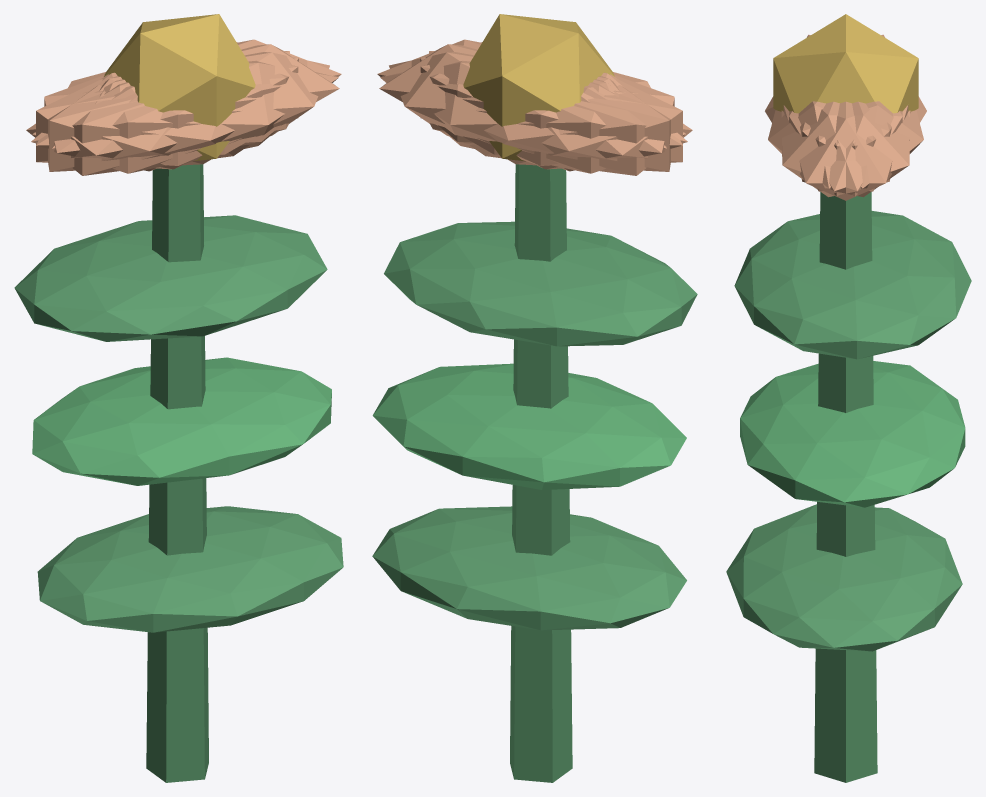
Rendered from capsicum-chinense.glb.
3 views of the same model, side by side, from view 1: azimuth 30°, elevation 25°; view 2: azimuth 150°, elevation 25°; view 3: azimuth 270°, elevation 25° (orthographic).
Parts seen in each view (by area): view 1: leaf2, leaf0, leaf1, stem, center, petal1, petal6, petal2, petal5, petal7, petal0, petal4 (+2 smaller); view 2: leaf2, leaf1, leaf0, stem, center, petal8, petal3, petal7, petal4, petal2, petal0, petal5 (+2 smaller); view 3: leaf2, leaf0, leaf1, stem, center, petal0, petal5, petal4, petal8, petal1.
Boxes of the visible parts, x1=… form: leaf2: x1=14, y1=215, x2=327, y2=341; leaf0: x1=37, y1=506, x2=343, y2=632; leaf1: x1=32, y1=357, x2=331, y2=485; stem: x1=146, y1=164, x2=208, y2=782; center: x1=104, y1=14, x2=255, y2=161; petal1: x1=31, y1=60, x2=338, y2=173; petal6: x1=26, y1=74, x2=248, y2=175; petal2: x1=48, y1=51, x2=289, y2=171; petal5: x1=52, y1=52, x2=329, y2=165; petal7: x1=36, y1=57, x2=298, y2=169; petal0: x1=103, y1=44, x2=339, y2=155; petal4: x1=32, y1=39, x2=341, y2=145; leaf2: x1=384, y1=221, x2=697, y2=346; leaf1: x1=372, y1=363, x2=686, y2=489; leaf0: x1=372, y1=506, x2=686, y2=630; stem: x1=510, y1=164, x2=572, y2=782; center: x1=463, y1=14, x2=614, y2=161; petal8: x1=380, y1=60, x2=687, y2=173; petal3: x1=470, y1=74, x2=692, y2=175; petal7: x1=429, y1=51, x2=670, y2=171; petal4: x1=389, y1=52, x2=666, y2=165; petal2: x1=420, y1=57, x2=682, y2=169; petal0: x1=379, y1=44, x2=615, y2=155; petal5: x1=377, y1=39, x2=686, y2=145; leaf2: x1=734, y1=211, x2=971, y2=359; leaf0: x1=726, y1=504, x2=962, y2=651; leaf1: x1=740, y1=361, x2=965, y2=507; stem: x1=814, y1=192, x2=877, y2=782; center: x1=773, y1=14, x2=918, y2=113; petal0: x1=783, y1=101, x2=908, y2=200; petal5: x1=781, y1=101, x2=902, y2=197; petal4: x1=789, y1=101, x2=910, y2=197; petal8: x1=800, y1=101, x2=923, y2=188; petal1: x1=768, y1=101, x2=891, y2=188.
Size of the model in its own units: 0.1452 by 0.3419 by 0.1034.
